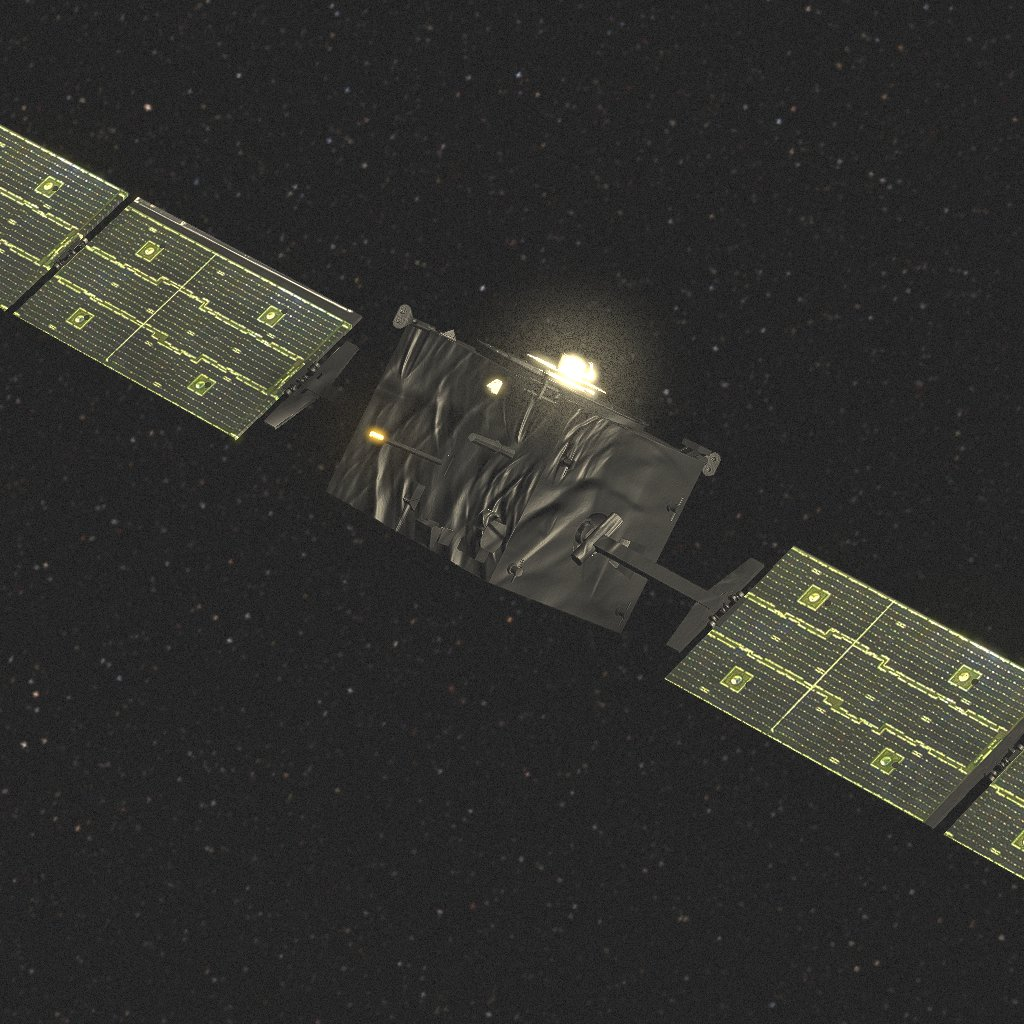smart_1: (0, 124, 1024, 881)
